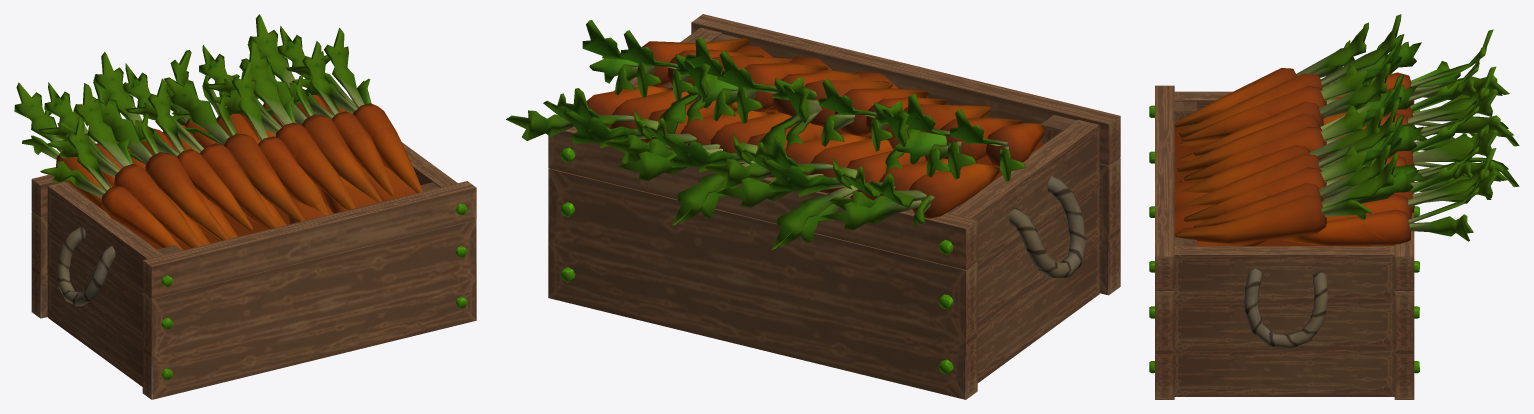
The model's file is FarmCrate_Carrot.gltf.
3 renders of one model, left to right at view 1: azimuth 30°, elevation 25°; view 2: azimuth 150°, elevation 25°; view 3: azimuth 270°, elevation 25°, orthographic. The views are drawn at different scales.
Parts seen in each view (by area): view 1: FarmCrate_Carrot; view 2: FarmCrate_Carrot; view 3: FarmCrate_Carrot.
Boxes of the visible parts, x1=… form: FarmCrate_Carrot: x1=14, y1=14, x2=476, y2=399; FarmCrate_Carrot: x1=506, y1=14, x2=1120, y2=399; FarmCrate_Carrot: x1=1149, y1=14, x2=1519, y2=399.
Bounding box in the file's own units: 0.7138 × 0.4113 × 0.567.
3 materials, 3 textured.
